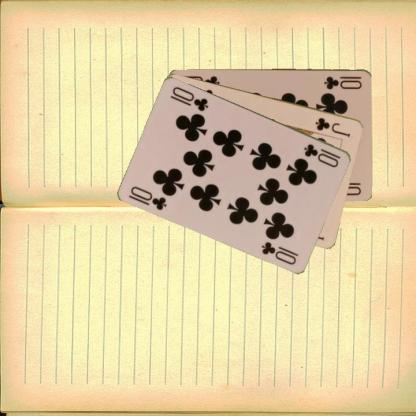10c: (126, 183, 169, 212), (301, 141, 342, 169), (322, 73, 363, 91)
Jc: (312, 114, 353, 138)
